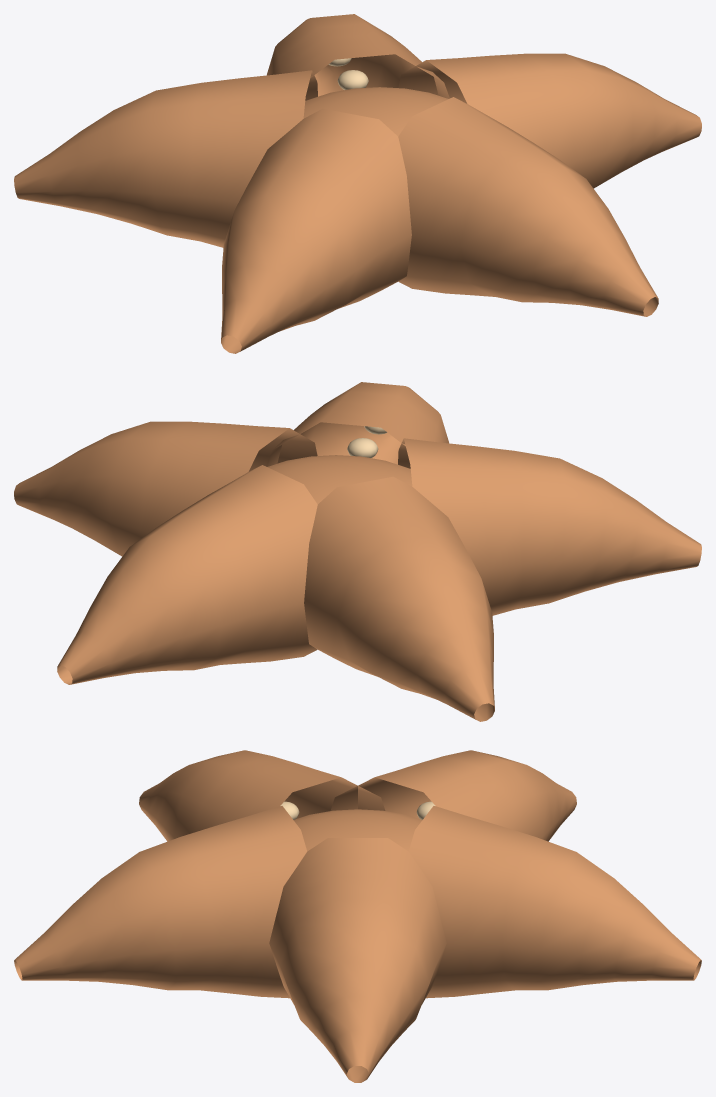
The model's file is sea_star.glb.
The picture shows the model from 3 angles, top to bottom: view 1: azimuth 30°, elevation 25°; view 2: azimuth 150°, elevation 25°; view 3: azimuth 270°, elevation 25°; orthographic projection. The views are drawn at different scales.
Parts seen in each view (by area): view 1: sea_star_textured_mesh; view 2: sea_star_textured_mesh; view 3: sea_star_textured_mesh.
Boxes of the visible parts, bbox=[...] form: sea_star_textured_mesh: bbox=[14, 14, 701, 353]; sea_star_textured_mesh: bbox=[14, 382, 701, 721]; sea_star_textured_mesh: bbox=[14, 750, 701, 1082].
Bounding box in the file's own units: 2.35 × 0.6676 × 2.47.
1 material, 1 textured.
